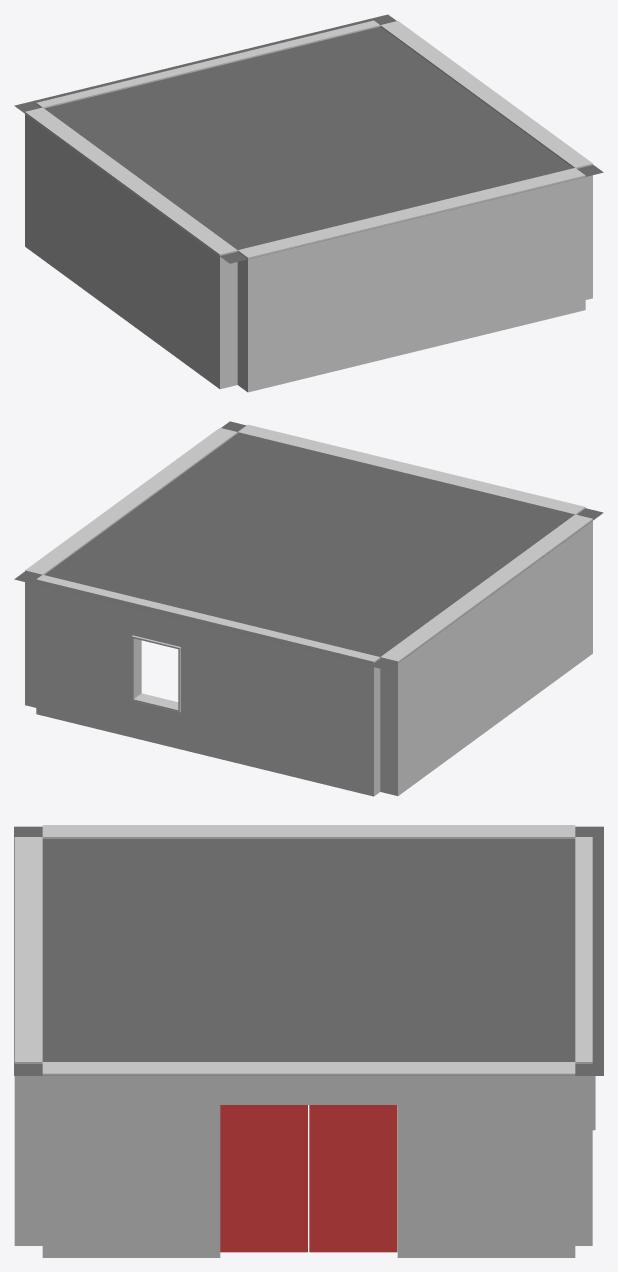
File: Bienne_Musee_export.fbx
3 views of the same model, one above another, from view 1: azimuth 30°, elevation 25°; view 2: azimuth 150°, elevation 25°; view 3: azimuth 270°, elevation 25° (orthographic). The views are drawn at different scales.
Parts seen in each view (by area): view 1: Plafond, Mur_4, Mur, Mur_3, Mur_2; view 2: Plafond, Mur_2, Mur, Mur_3, Mur_4, Fenêtre; view 3: Plafond, Mur_3, Porte, Porte_droite, Mur_4, Mur, Mur_2.
Boxes of the visible parts, <box> form: Plafond: <box>14,14,603,263</box>; Mur_4: <box>237,168,585,392</box>; Mur: <box>25,107,237,389</box>; Mur_3: <box>380,21,592,299</box>; Mur_2: <box>36,20,380,108</box>; Plafond: <box>14,421,603,670</box>; Mur_2: <box>36,575,380,796</box>; Mur: <box>380,514,592,795</box>; Mur_3: <box>25,428,237,707</box>; Mur_4: <box>237,424,585,515</box>; Fenêtre: <box>132,635,180,712</box>; Plafond: <box>14,826,603,1075</box>; Mur_3: <box>42,1062,575,1257</box>; Porte: <box>309,1105,397,1252</box>; Porte_droite: <box>220,1105,307,1252</box>; Mur_4: <box>14,837,42,1245</box>; Mur: <box>42,825,575,838</box>; Mur_2: <box>575,837,592,1245</box>.
Size of the model in its own units: 842 by 290 by 842.
